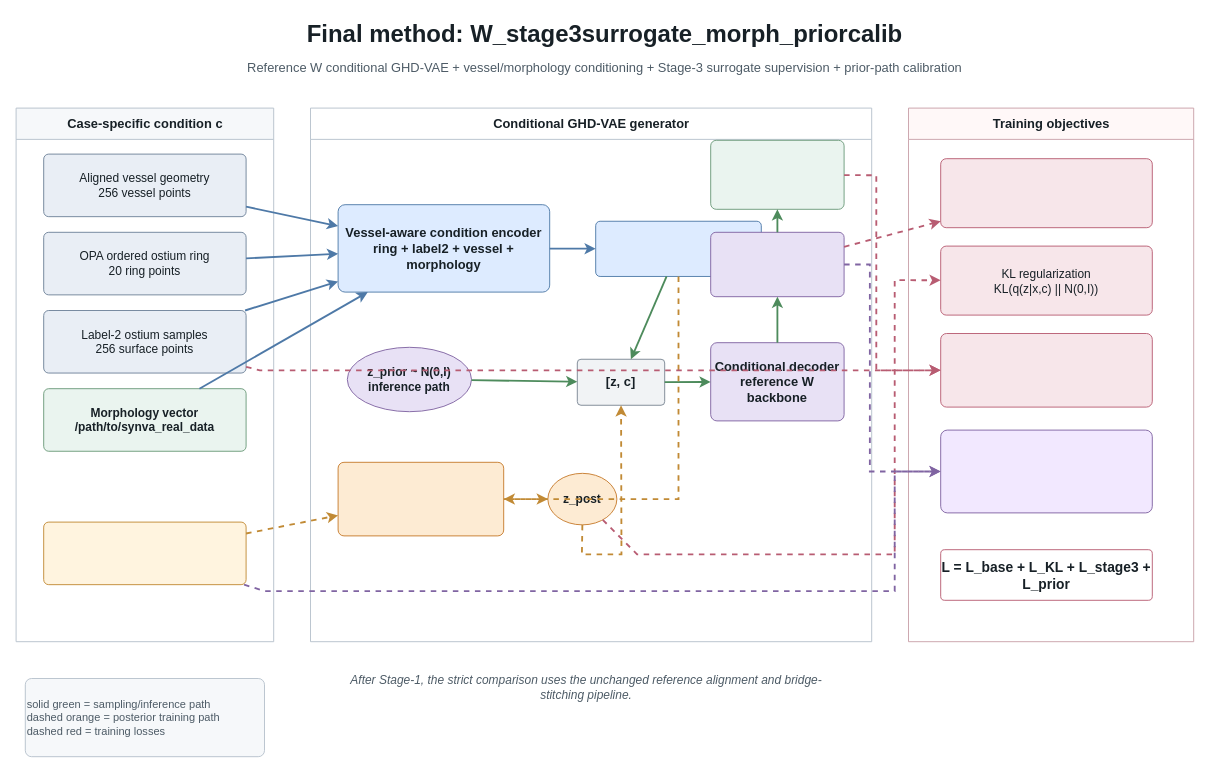
Image size: 1210x773. Some labels were removed from this diagram. The shapes that lost their labels are listed below. From the top down, each one's centre as x and y in pixels, then its label:
the point at 777,174: GHD mesh decode canonical sac + eigenbasis
the point at 1046,193: Base reconstruction MSE(x_hat,x) + scale + vertex
the point at 678,248: Condition embedding c
the point at 777,264: x_hat predicted GHD + scale
the point at 1046,370: Stage-3 surrogate label2 + center + side + opening
the point at 1046,471: Prior-path calibration Huber(x_prior,x) + batch mean/std matching
the point at 420,498: Posterior encoder q(z | x, c)
the point at 144,553: Training target x GHD coefficients + scale
